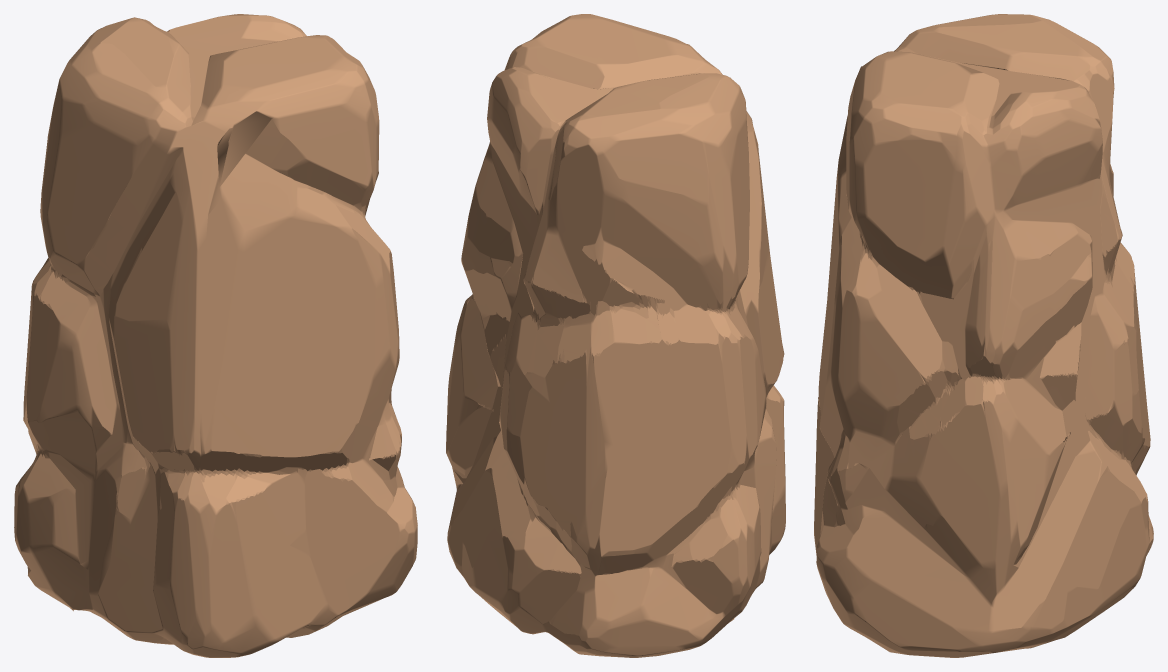
3 views of the same model, side by side, from view 1: azimuth 30°, elevation 25°; view 2: azimuth 150°, elevation 25°; view 3: azimuth 270°, elevation 25° (orthographic). The views are drawn at different scales.
Visible parts, largest first — view 1: Mesh_57_LOD0; view 2: Mesh_57_LOD0; view 3: Mesh_57_LOD0.
Boxes of the visible parts, x1,y1,x2,y2 form: Mesh_57_LOD0: (14,14,417,657); Mesh_57_LOD0: (446,14,785,657); Mesh_57_LOD0: (814,14,1153,657).
Size of what is drawn, in the model's own units: 1350 by 2162 by 1234.
